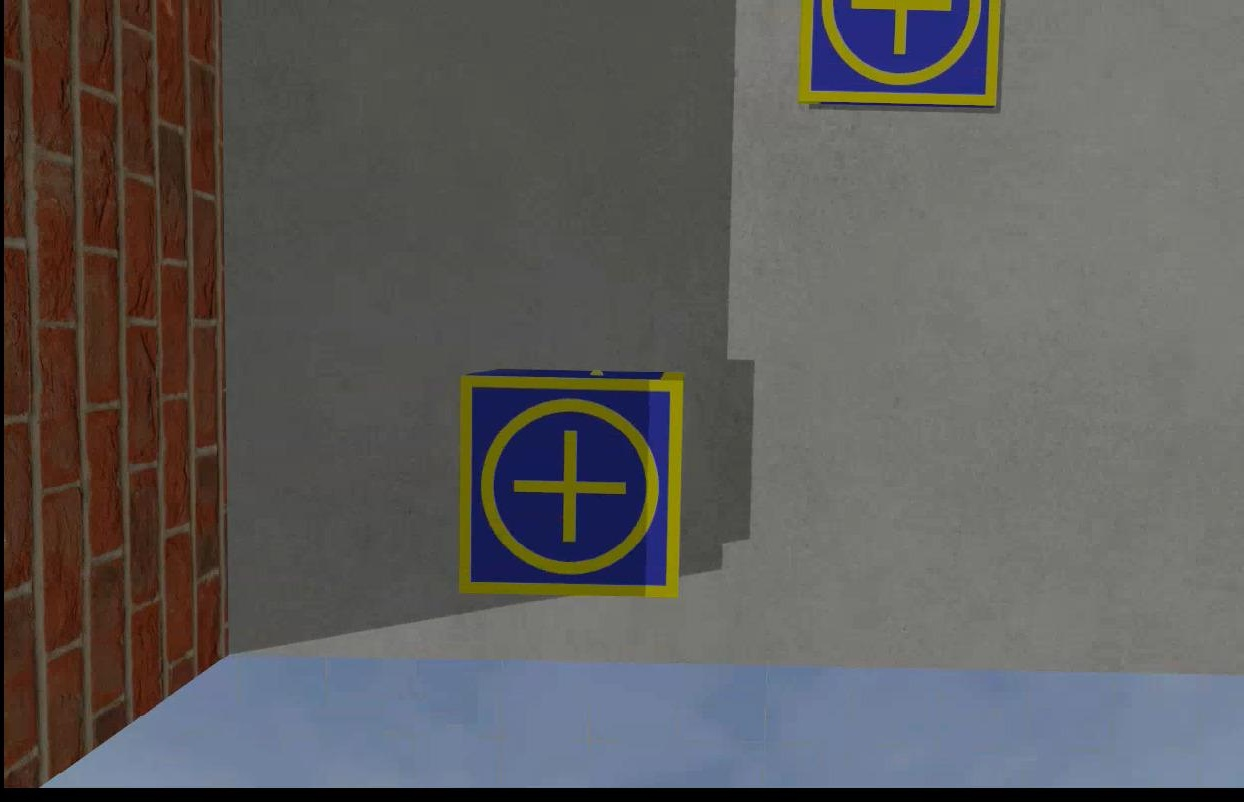small_base: (456, 374, 681, 598), (799, 1, 1001, 108)
